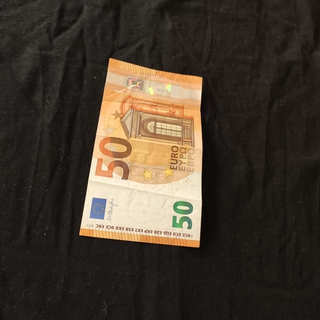50EUROFront: (78, 56, 203, 249)
